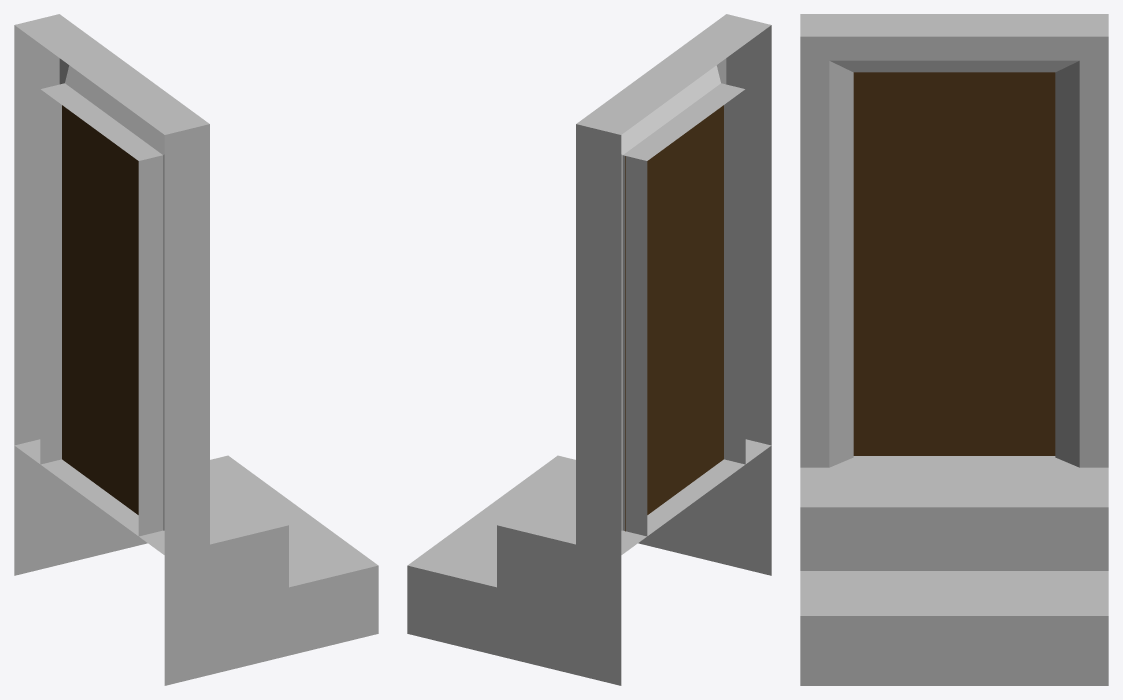
Rendered from Door2.fbx.
3 renders of one model, left to right at view 1: azimuth 30°, elevation 25°; view 2: azimuth 150°, elevation 25°; view 3: azimuth 270°, elevation 25°, orthographic. The views are drawn at different scales.
Visible parts, largest first — view 1: door2_combined; view 2: door2_combined; view 3: door2_combined.
Part boxes in pixels (x1,y1,x2,y2): door2_combined: (14,14,378,685); door2_combined: (407,14,771,685); door2_combined: (800,14,1108,685).
Size of the model in its own units: 1.19 by 2.94 by 1.45.
